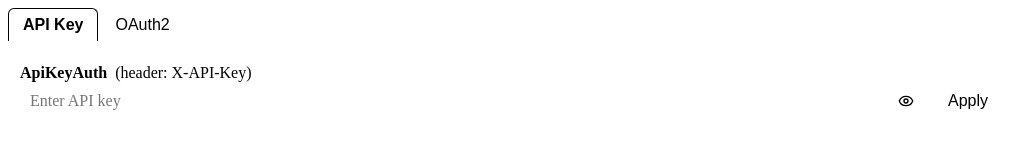
Test: AuthPanel scheme tabs › marks a scheme tab as authorized once its credentials are applied
Apply the API key.
In the password field with placeholder "Enter API key": (472, 101) 20,86 -> 924,116, type "secret-key"
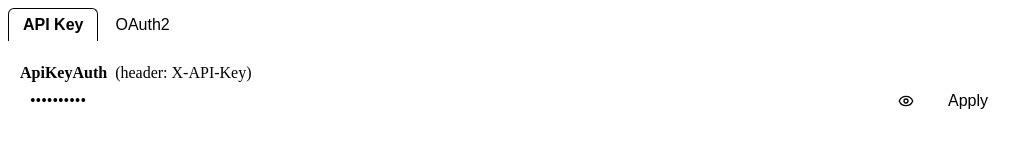
Click the button "Apply": (968, 101) 932,86 -> 1004,116
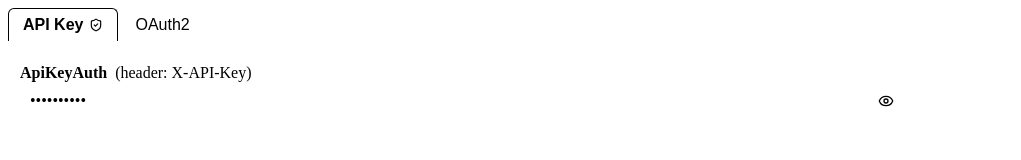
expect the picture titled "authorized" is shown: met, box 90,18 -> 104,32
